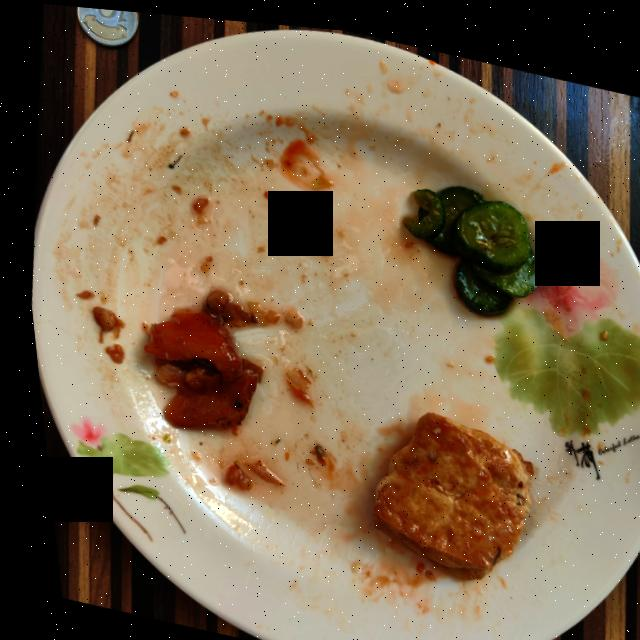Kabayaki sea bream fillet: (137, 287, 254, 427)
coin: (76, 5, 138, 45)
cucumber: (398, 178, 534, 307)
